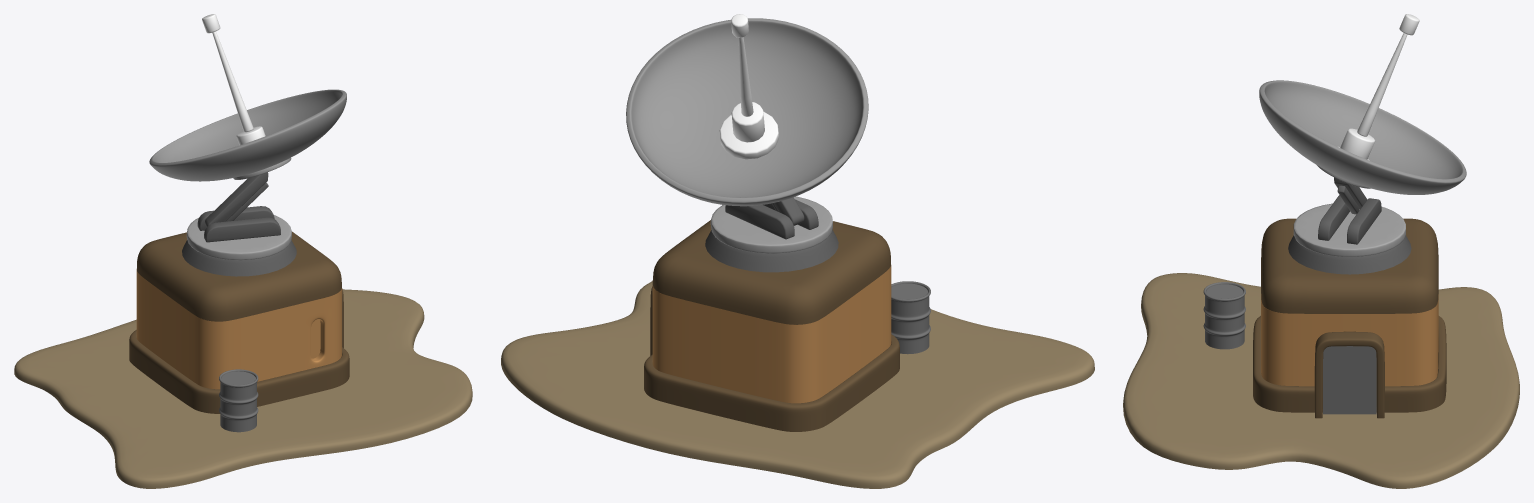
The picture shows the model from 3 angles, left to right: view 1: azimuth 30°, elevation 25°; view 2: azimuth 150°, elevation 25°; view 3: azimuth 270°, elevation 25°; orthographic projection. The views are drawn at different scales.
Visible parts, largest first — view 1: Vert.002, Plane.002, Circle.016, Plane.026, Plane.031, Circle.014, Circle.015, Circle.013, Plane.032, Circle.017, Cube.001; view 2: Vert.002, Circle.016, Plane.002, Plane.026, Plane.031, Circle.017, Circle.015, Circle.013, Circle.014, Plane.032; view 3: Vert.002, Circle.016, Plane.026, Plane.002, Plane.031, Plane.029, Circle.015, Circle.014, Circle.013, Plane.028, Circle.017, Plane.032 (+1 smaller).
Boxes of the visible parts, <box> form: Vert.002: <box>14,289,472,488</box>; Plane.002: <box>136,269,341,389</box>; Circle.016: <box>149,89,346,181</box>; Plane.026: <box>137,231,341,321</box>; Plane.031: <box>129,330,349,413</box>; Circle.014: <box>219,369,258,432</box>; Circle.015: <box>186,215,291,260</box>; Circle.013: <box>182,240,296,276</box>; Plane.032: <box>197,206,280,242</box>; Circle.017: <box>202,14,265,145</box>; Cube.001: <box>205,172,268,226</box>; Vert.002: <box>501,281,1094,488</box>; Circle.016: <box>626,18,868,206</box>; Plane.002: <box>652,265,891,403</box>; Plane.026: <box>652,220,890,324</box>; Plane.031: <box>644,334,899,431</box>; Circle.017: <box>719,14,778,159</box>; Circle.015: <box>710,196,832,253</box>; Circle.013: <box>705,230,838,272</box>; Circle.014: <box>891,281,930,354</box>; Plane.032: <box>725,199,818,239</box>; Vert.002: <box>1123,273,1519,488</box>; Circle.016: <box>1259,80,1466,194</box>; Plane.026: <box>1261,218,1438,313</box>; Plane.002: <box>1261,294,1438,386</box>; Plane.031: <box>1253,316,1446,412</box>; Plane.029: <box>1323,346,1376,414</box>; Circle.015: <box>1293,203,1405,256</box>; Circle.014: <box>1203,282,1245,349</box>; Circle.013: <box>1288,235,1411,274</box>; Plane.028: <box>1314,331,1384,418</box>; Circle.017: <box>1338,14,1419,160</box>; Plane.032: <box>1318,195,1381,244</box>.
Bounding box in the file's own units: 1096 × 898 × 880.
